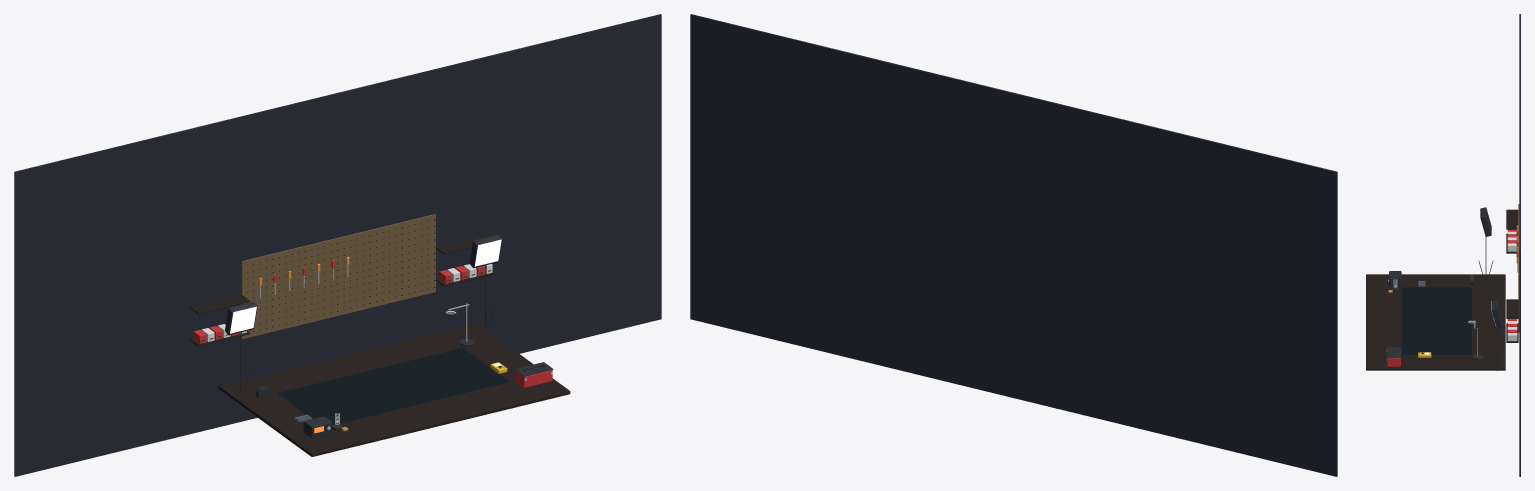
Rendered from workshop.glb.
The picture shows the model from 3 angles, left to right: view 1: azimuth 30°, elevation 25°; view 2: azimuth 150°, elevation 25°; view 3: azimuth 270°, elevation 25°; orthographic projection. The views are drawn at different scales.
Visible parts, largest first — view 1: workshop; view 2: workshop; view 3: workshop.
Part boxes in pixels (bbox=[...]): workshop: bbox=[14, 14, 661, 476]; workshop: bbox=[690, 14, 1337, 476]; workshop: bbox=[1366, 14, 1520, 476].
Bounding box in the file's own units: 40 × 18 × 11.1.
